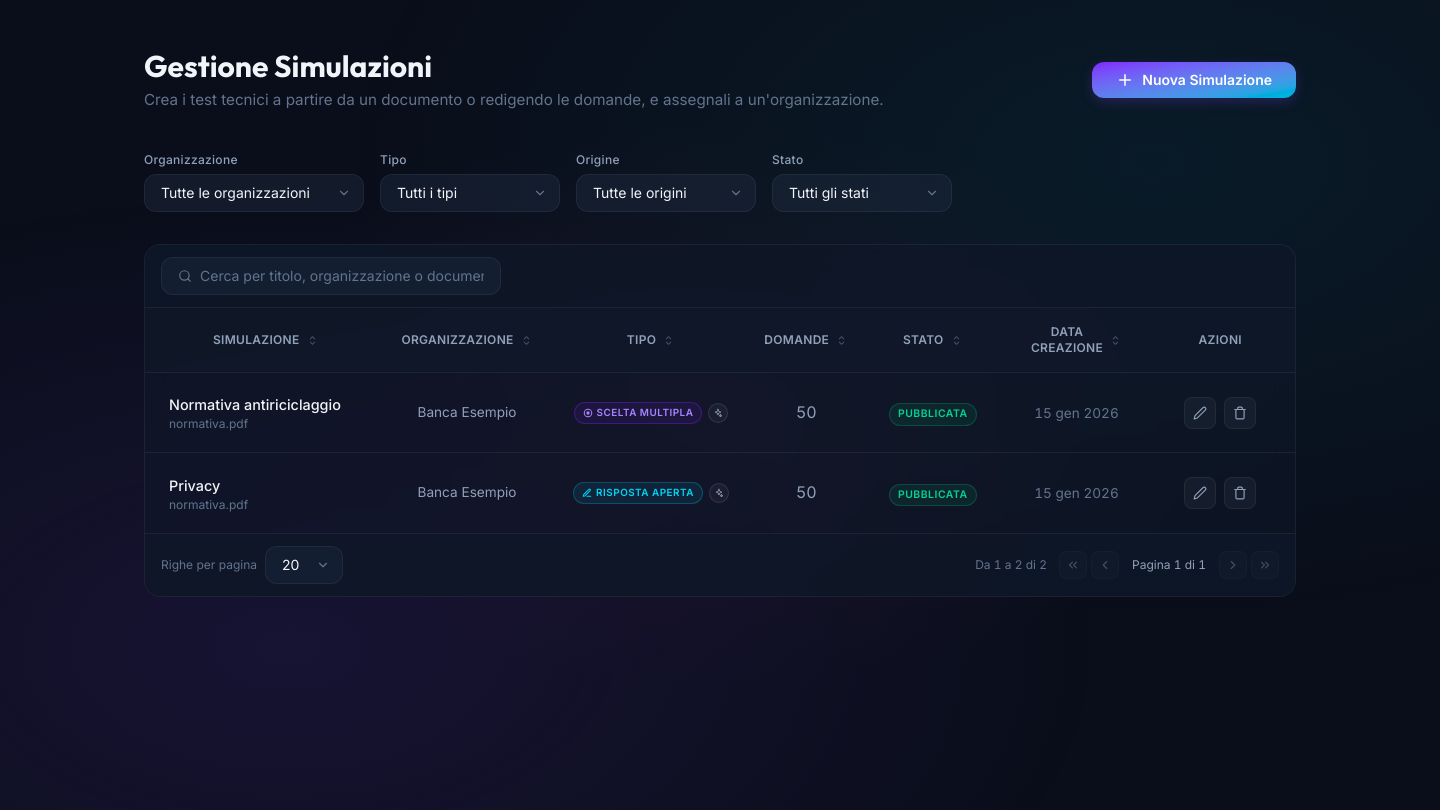
Test: elenco › restringe al tipo di test
Step 1. Click the dropdown named "Tipo" → (470, 193), box [380, 174, 560, 212]
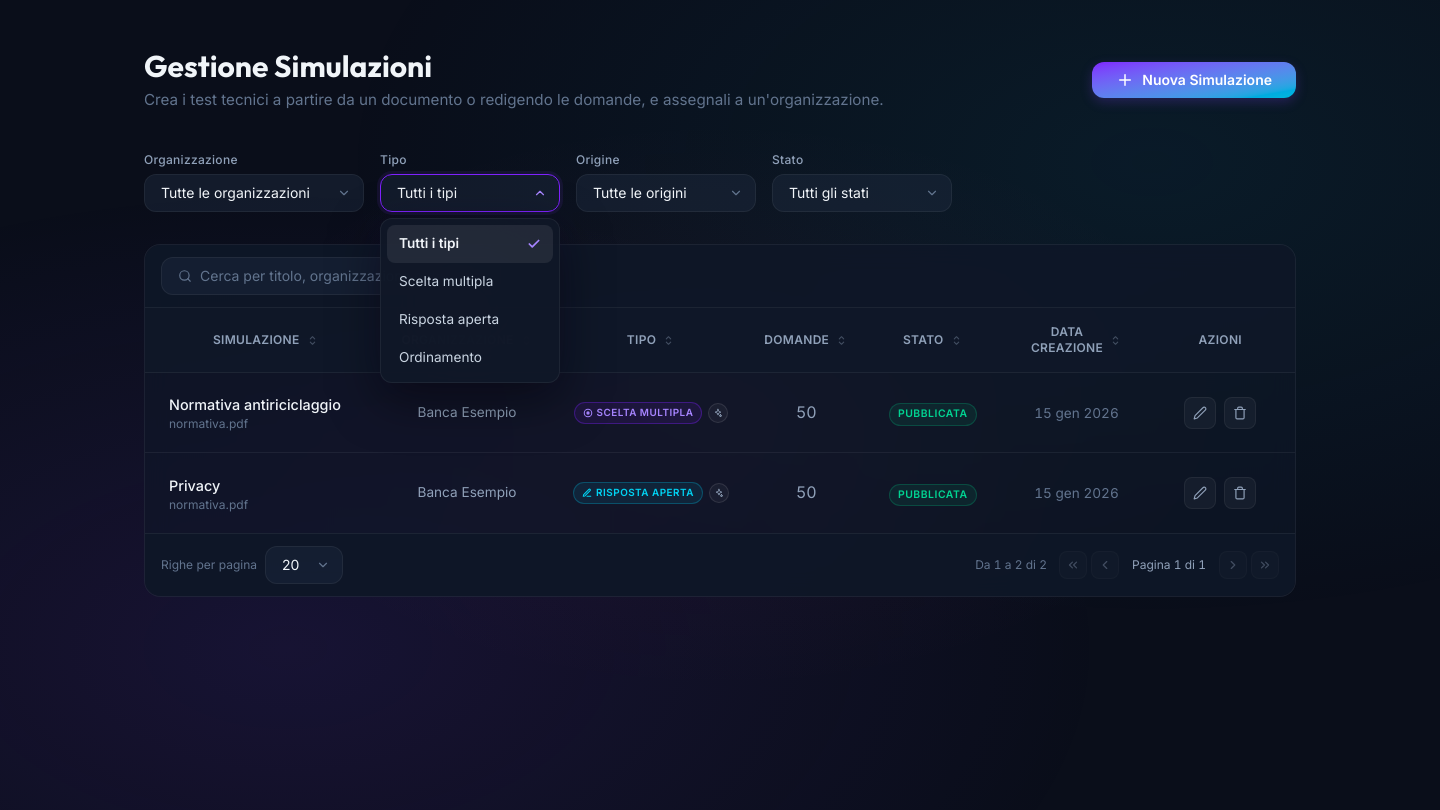
Step 2. Click the option "Risposta aperta" → (449, 319), box [399, 311, 499, 327]
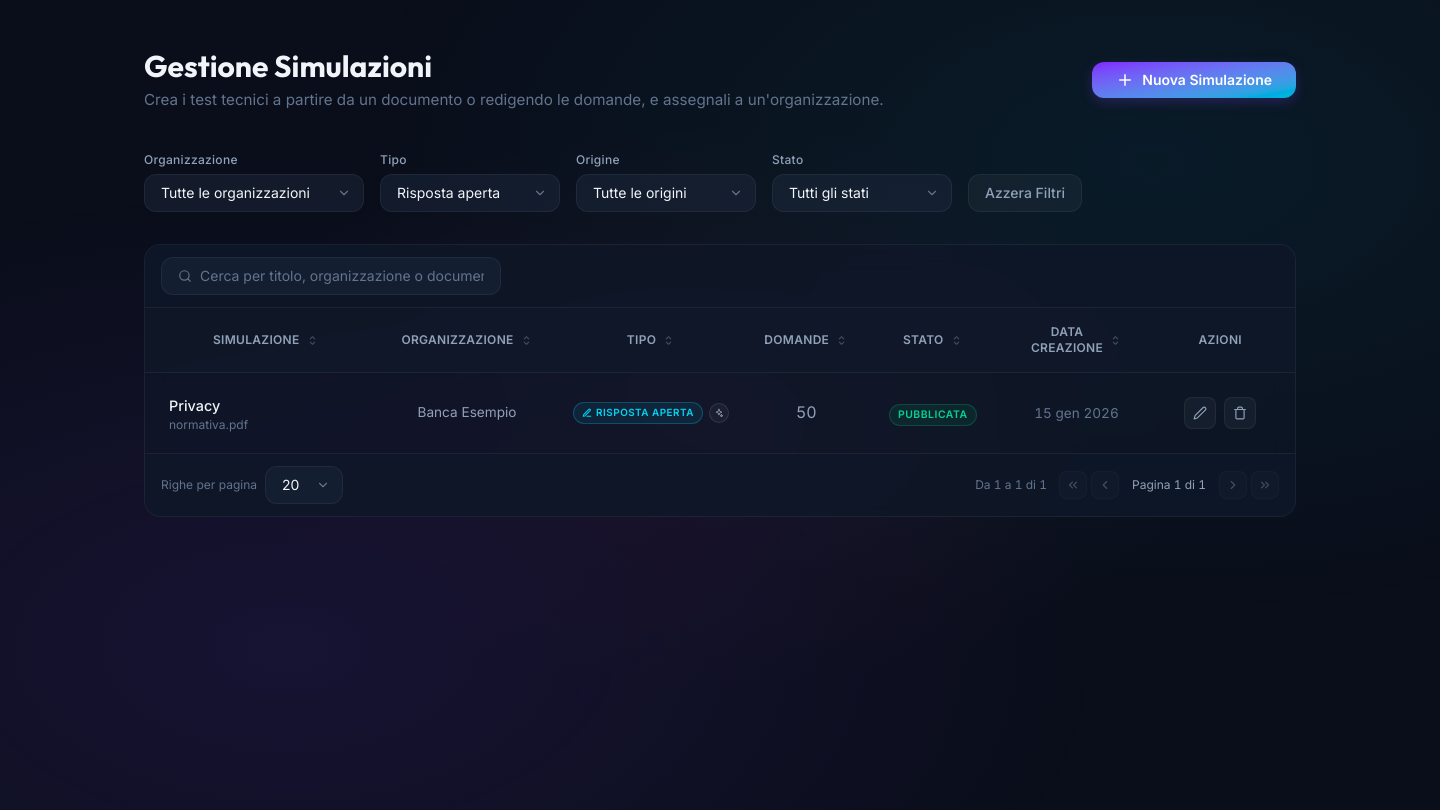
Check: the text "Privacy" is shown, box [169, 396, 220, 414]
Check: the text "Normativa antiriciclaggio" is gone
